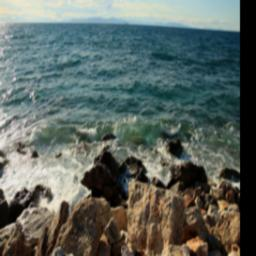Sparrow: (120, 246, 138, 256)
